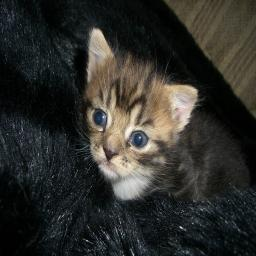catnose: (101, 142, 121, 163)
